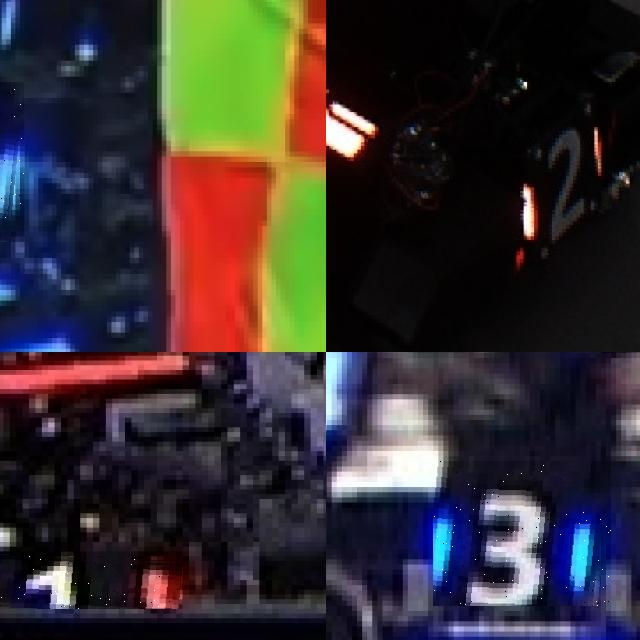B3: (433, 461, 611, 606)
B5: (0, 82, 24, 242)
R1: (0, 551, 182, 608)
R2: (518, 125, 605, 240)
